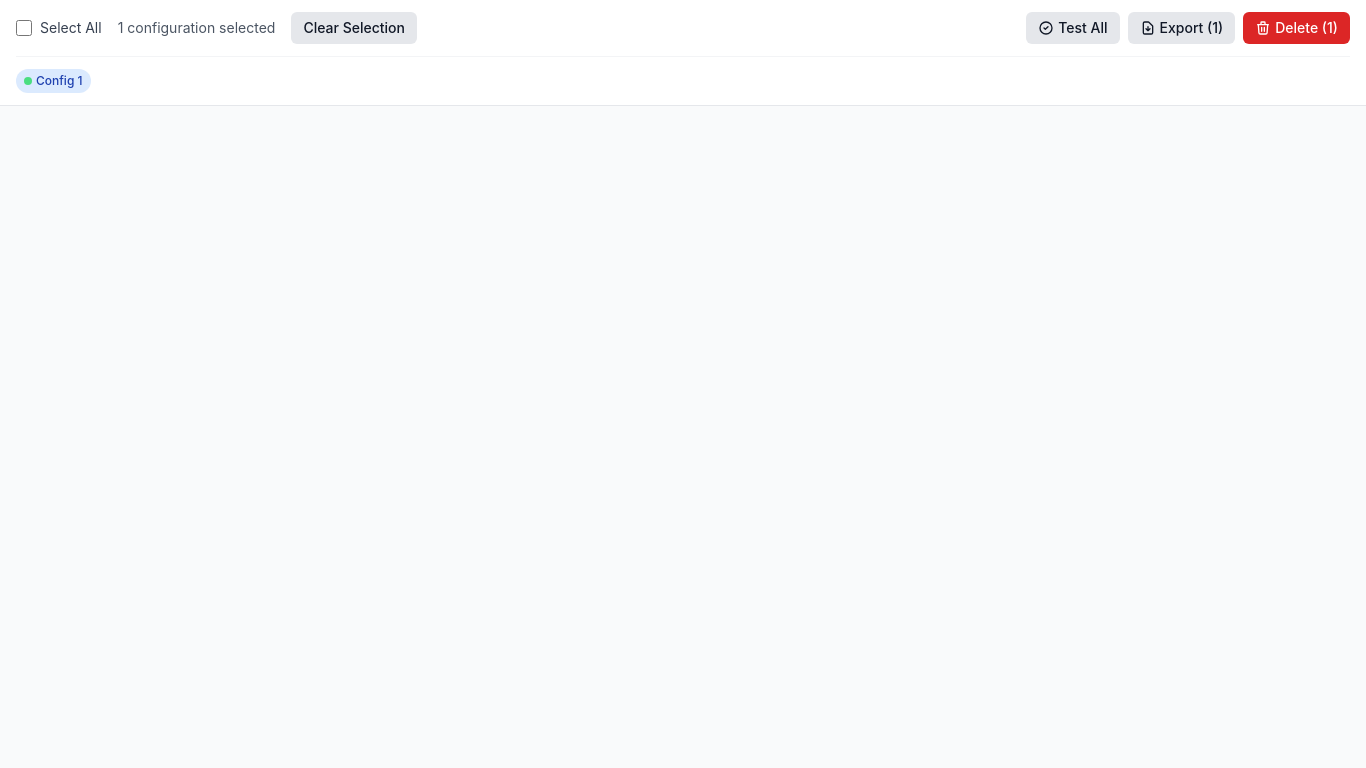
Test: BatchOperations › handles delete cancellation
The image size is (1366, 768).
// Open delete confirmation
Click the button "Delete (1)": (1297,28) [1243, 12, 1350, 44]
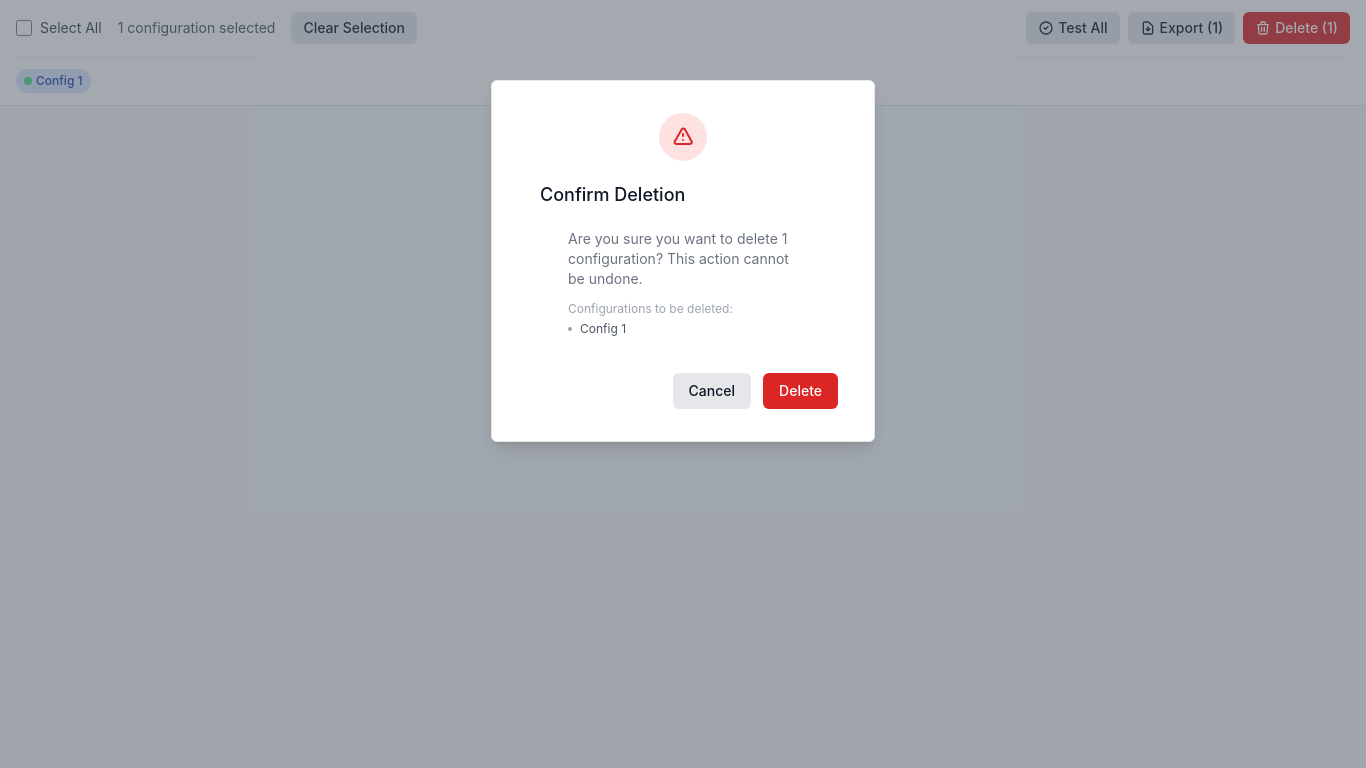
// Cancel deletion
Click the button "Cancel": (712,391) [673, 373, 751, 409]
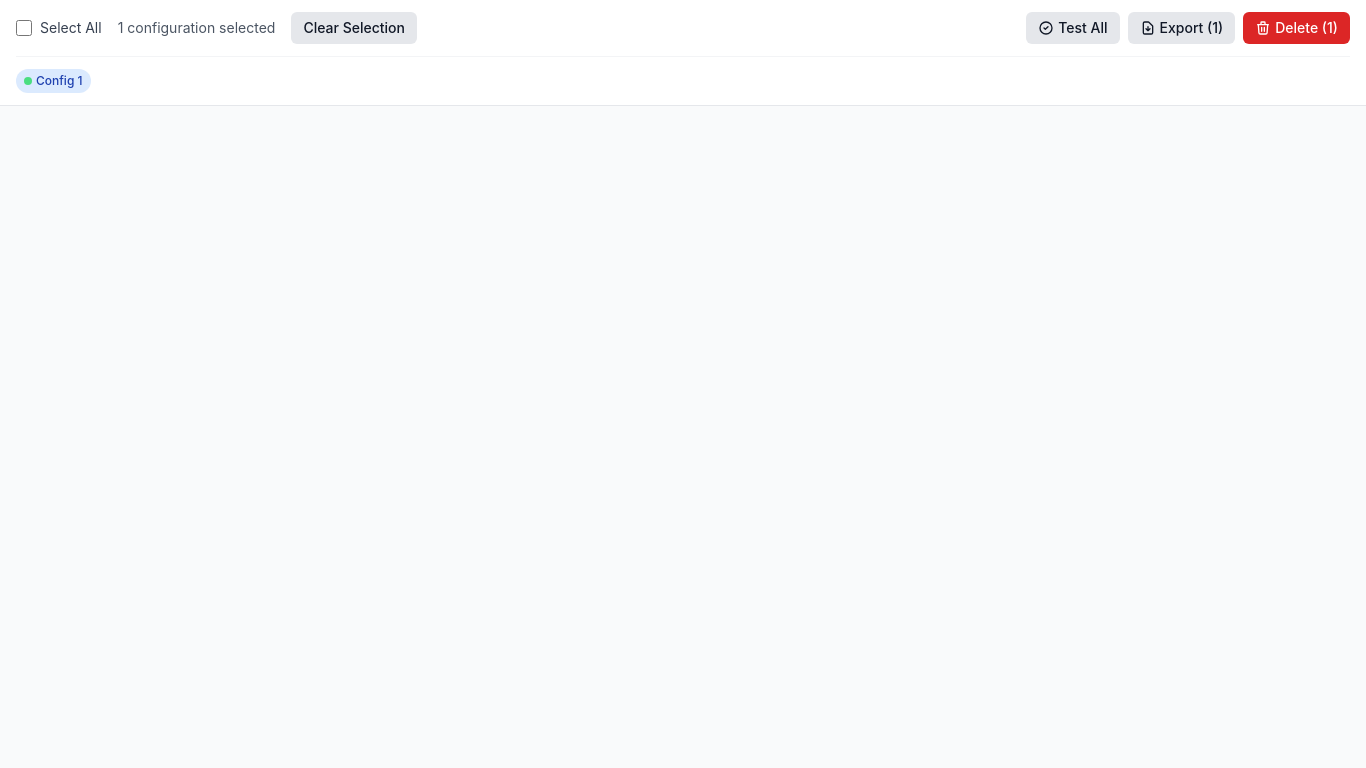
Result: the heading "Confirm Deletion" is gone
